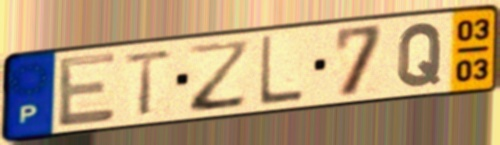7: (332, 23, 387, 100)
E: (56, 49, 119, 131)
L: (256, 33, 306, 109)
Q: (394, 21, 446, 90)
T: (121, 46, 176, 119)
Z: (187, 36, 254, 115)
